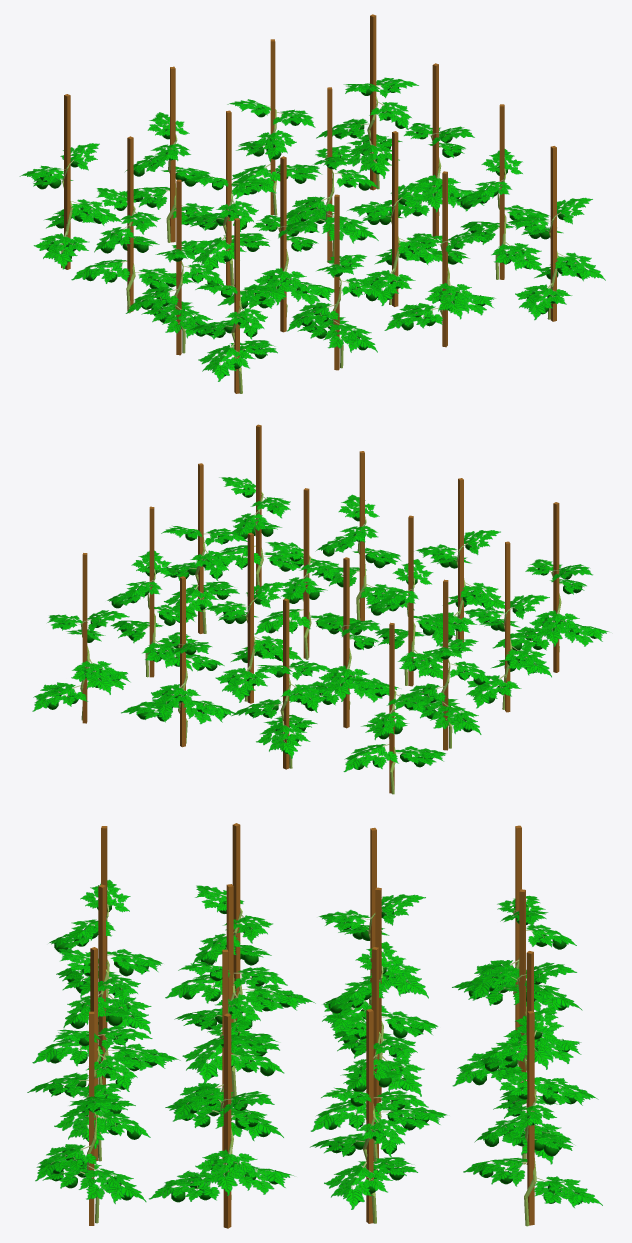
The model's file is tomato-stage2.glb.
3 renders of one model, top to bottom at view 1: azimuth 30°, elevation 25°; view 2: azimuth 150°, elevation 25°; view 3: azimuth 270°, elevation 25°, orthographic. The views are drawn at different scales.
Parts seen in each view (by area): view 1: Tomatoe_F2.001; view 2: Tomatoe_F2.001; view 3: Tomatoe_F2.001.
Part boxes in pixels (bbox=[...]): Tomatoe_F2.001: bbox=[19, 14, 605, 393]; Tomatoe_F2.001: bbox=[32, 424, 608, 794]; Tomatoe_F2.001: bbox=[27, 823, 602, 1228].
Bounding box in the file's own units: 2.3 × 0.8909 × 2.3.
Materials: 1 (1 with a texture image).
